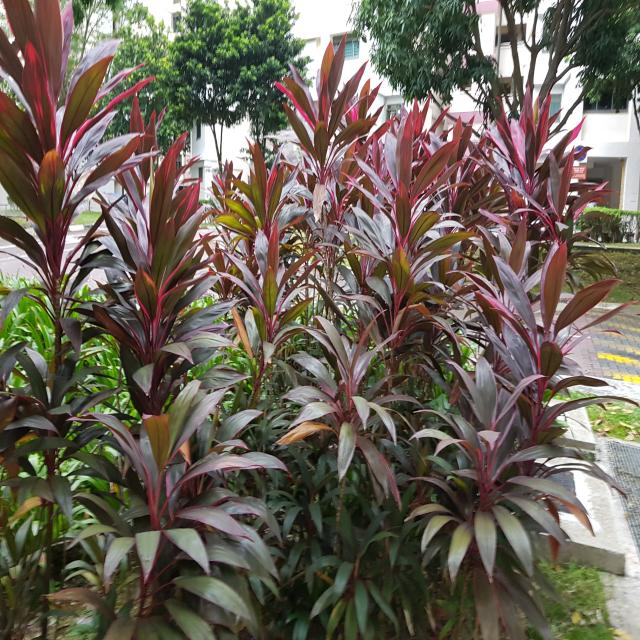Ti: (0, 0, 150, 299), (416, 334, 588, 581), (86, 382, 282, 598), (295, 307, 425, 503), (349, 82, 469, 290), (278, 29, 374, 182), (481, 79, 576, 210)
